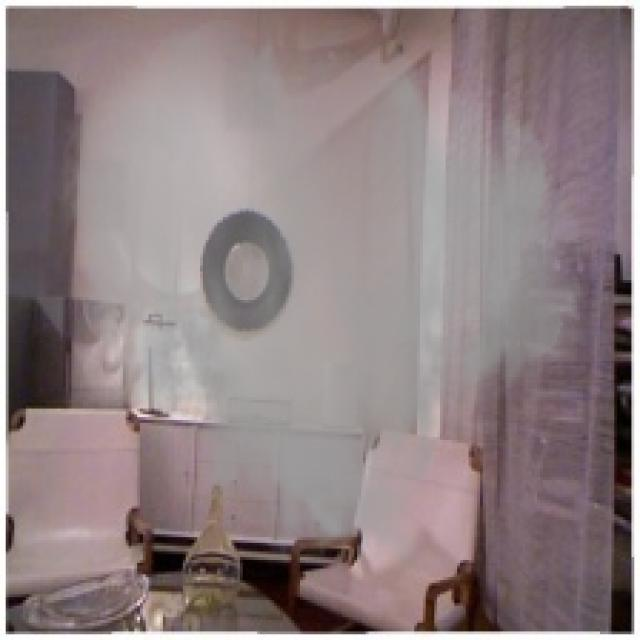smoke: (57, 14, 589, 580)
